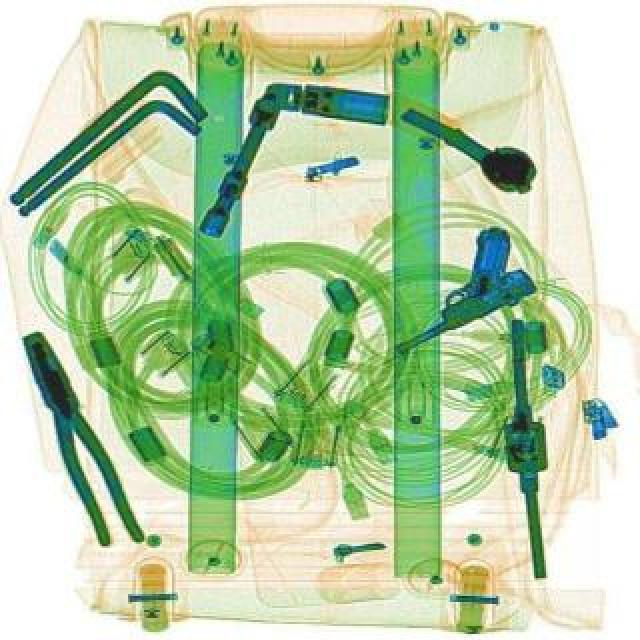gun: (358, 220, 538, 356)
wrench: (12, 324, 142, 552)
